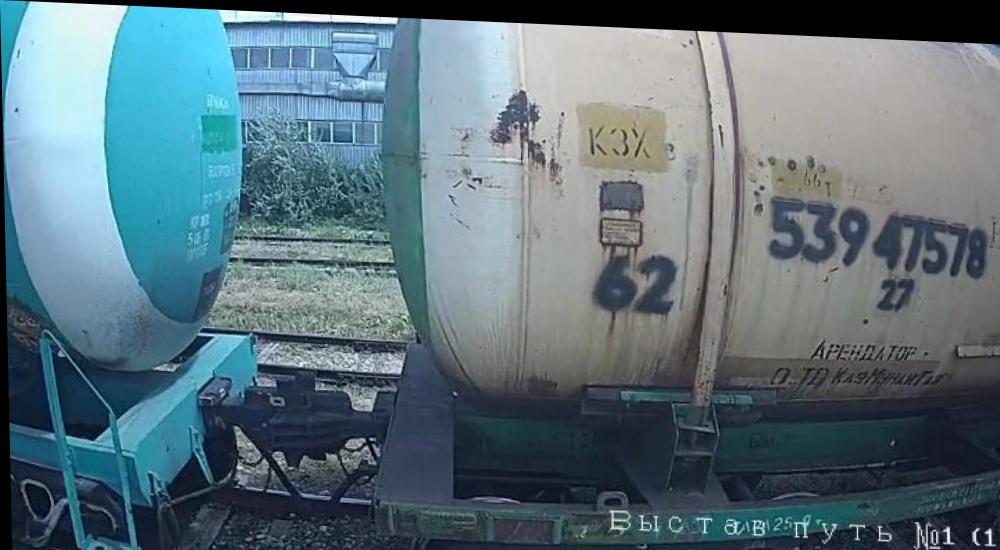Wagon-number: (760, 184, 991, 275)
